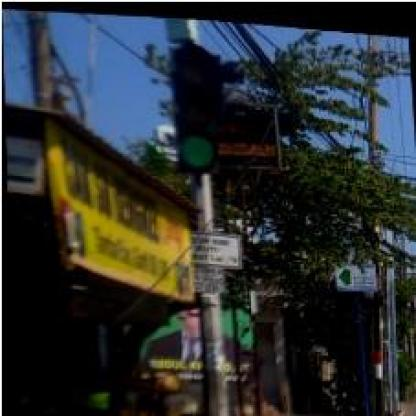green: (170, 40, 219, 170)
